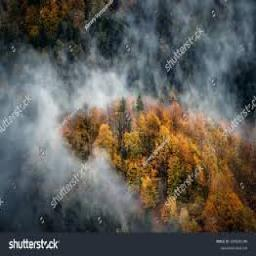Heavy smoke: (3, 57, 129, 229)
Low smoke: (120, 1, 254, 121)
